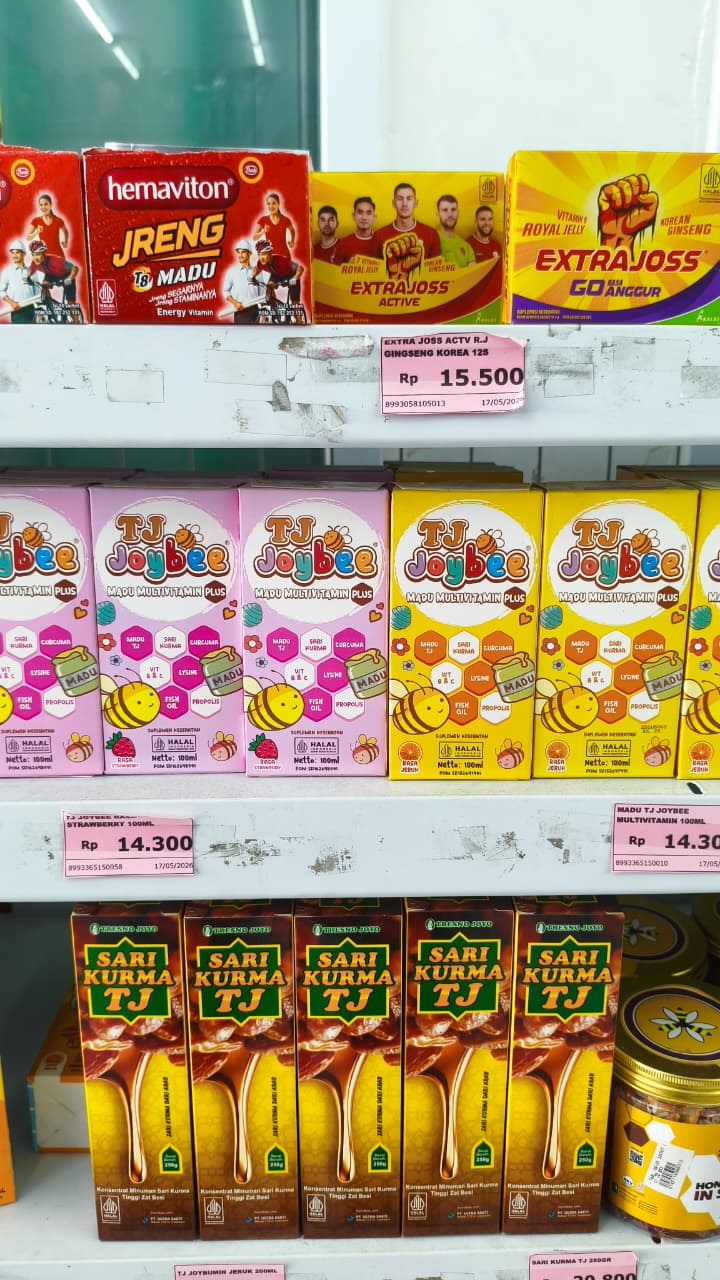ExtraJoss: (502, 150, 715, 323)
Hemaviton Jreng Madu: (83, 142, 249, 325)
Sari Kurma TJ: (177, 924, 297, 1059)
TJ Joybee: (236, 489, 392, 636), (393, 494, 538, 620), (549, 483, 694, 609)
